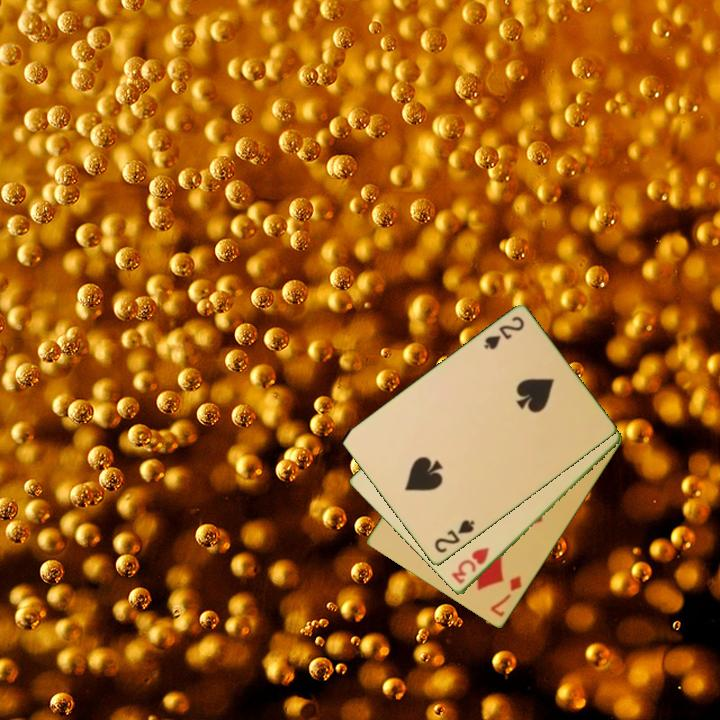2s: (431, 516, 478, 556), (480, 313, 527, 353)
3h: (448, 544, 492, 587)
7d: (487, 573, 525, 620)
